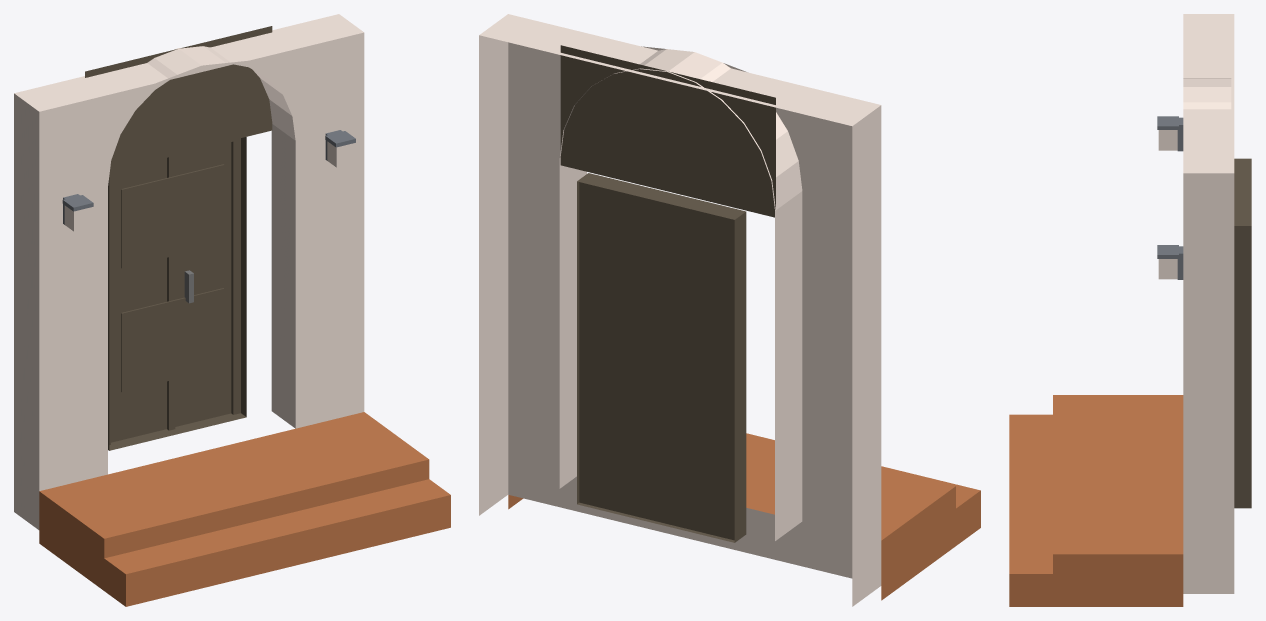
Rendered from entrance_close.fbx.
3 views of the same model, side by side, from view 1: azimuth 30°, elevation 25°; view 2: azimuth 150°, elevation 25°; view 3: azimuth 270°, elevation 25° (orthographic). The views are drawn at different scales.
Visible parts, largest first — view 1: a2000s2/200/entrance_close; view 2: a2000s2/200/entrance_close; view 3: a2000s2/200/entrance_close.
Part boxes in pixels (bbox=[...]): a2000s2/200/entrance_close: bbox=[14, 14, 450, 606]; a2000s2/200/entrance_close: bbox=[479, 14, 980, 606]; a2000s2/200/entrance_close: bbox=[1009, 14, 1251, 606].
Bounding box in the file's own units: 2.6 × 3.35 × 1.67.
